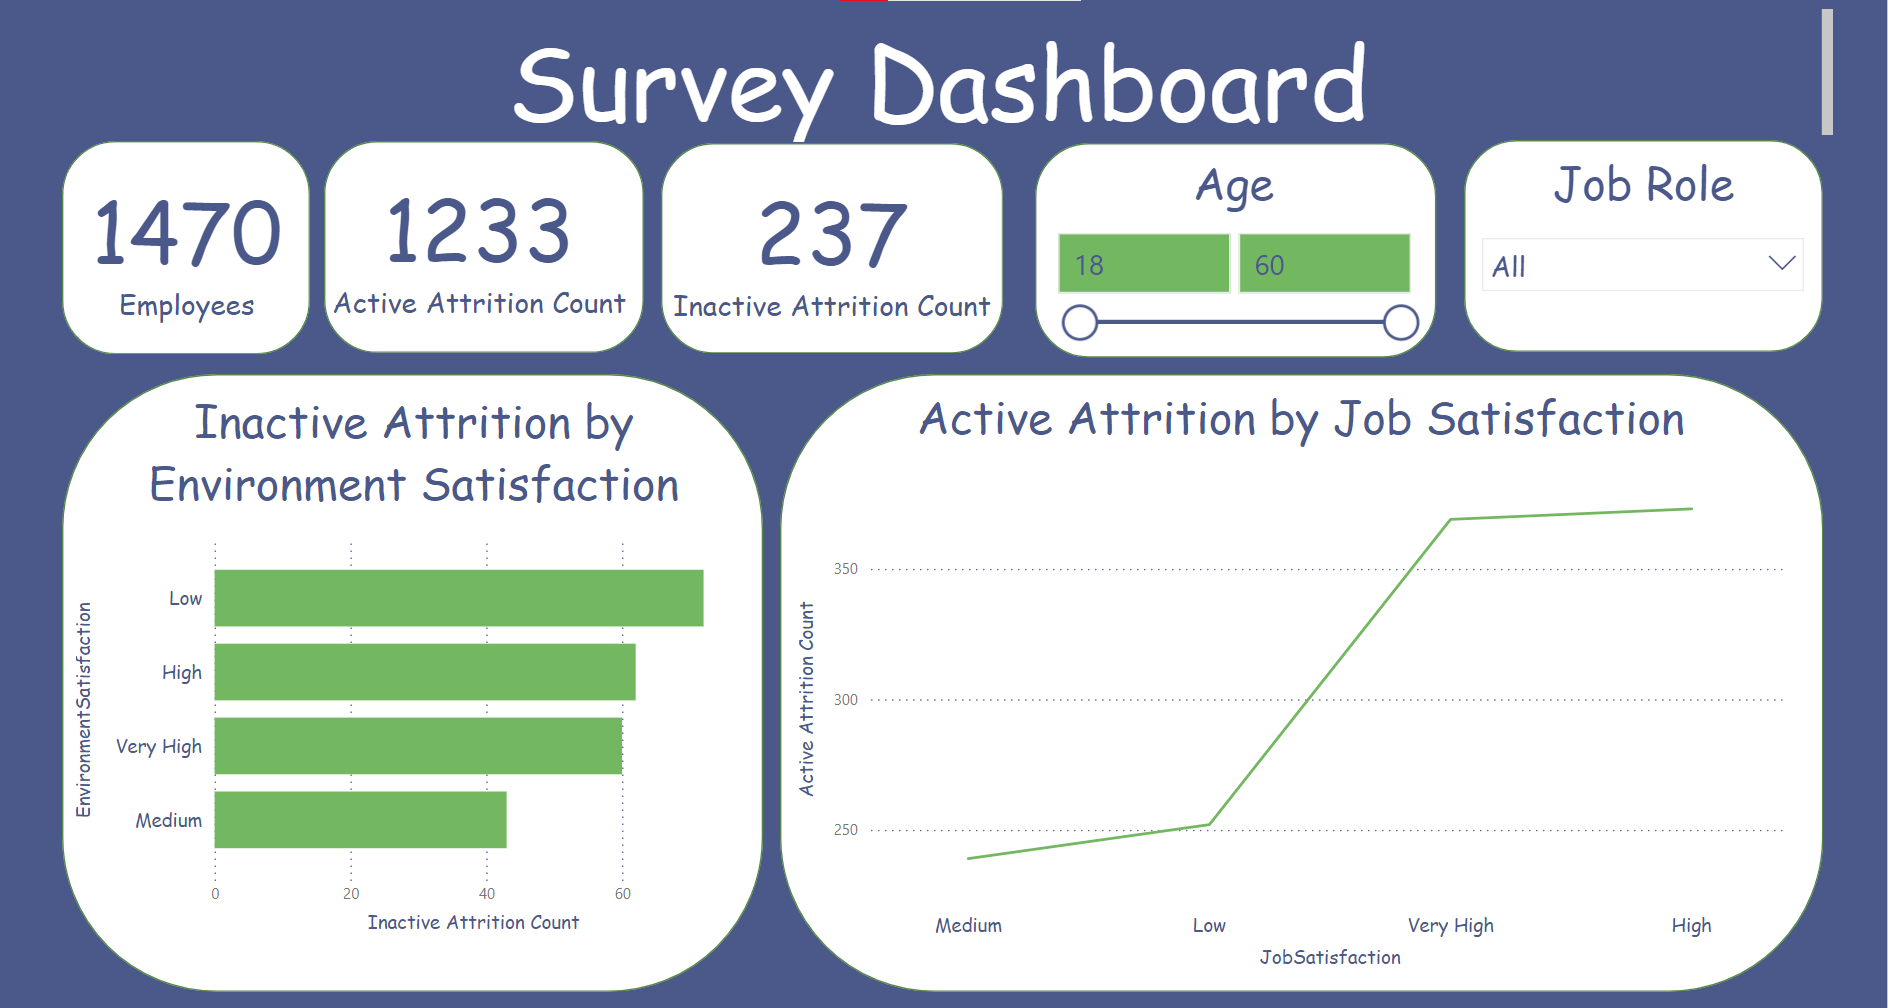

The page's visual inventory and layout, read from the dashboard file:
{"tool":"powerbi","page":{"name":"Survey Dashboard","canvas":[1280,720],"ordinal":5},"visuals":[{"type":"group","id":"g1","title":"Group 3","box":[9.9,100.9,177.2,152.4],"z":0},{"type":"shape","box":[9.9,100.9,177.2,152.4],"z":0,"group":"g1"},{"type":"group","id":"g2","title":"Group 1","box":[9.9,267.2,500.8,441.4],"z":0,"group":"g10"},{"type":"group","id":"g3","title":"Group 2","box":[522.6,267.2,745.2,441.4],"z":0,"group":"g15"},{"type":"group","id":"g4","title":"Group 1","box":[522.6,267.2,745.2,441.4],"z":0,"group":"g3"},{"type":"group","id":"g5","title":"Group 4","box":[187.1,100.9,241.5,151.4],"z":1000},{"type":"textbox","box":[715.1,103,262.3,57.4],"z":1000,"group":"g9"},{"type":"textbox","box":[565.6,270,658.1,57.4],"z":1000,"group":"g3"},{"type":"textbox","box":[56.3,272.9,409.7,100],"z":1000,"group":"g10"},{"type":"group","id":"g6","title":"Group 5","box":[435.5,101.9,248.4,150.4],"z":2000},{"type":"textbox","box":[0,1.8,1280,104.9],"z":3000},{"type":"group","id":"g7","title":"Group 6","box":[704.7,101.9,286.6,153.4],"z":3000,"group":"g8"},{"type":"card","fields":{"Values":["CountNonNull(Demographic_Data.EmployeeID)"]},"box":[14.8,106.8,168.2,140.5],"z":3500,"group":"g1"},{"type":"group","id":"g8","title":"Group 16","box":[704.7,101.9,287,153.4],"z":4000},{"type":"group","id":"g9","title":"Group 7","box":[715.1,103,262.3,57.4],"z":4000,"group":"g8"},{"type":"group","id":"g10","title":"Group 2","box":[9.9,267.2,500.8,441.4],"z":4000,"group":"g14"},{"type":"group","id":"g11","title":"Group 14","box":[1011.5,100,256.3,151.4],"z":5000},{"type":"group","id":"g12","title":"Group 7","box":[9.9,267.2,500.8,441.4],"z":5000,"group":"g13"},{"type":"group","id":"g13","title":"Group 8","box":[9.9,267.2,500.8,441.4],"z":6000},{"type":"group","id":"g14","title":"Group 6","box":[9.9,267.2,500.8,441.4],"z":6000,"group":"g12"},{"type":"shape","box":[9.9,267.2,500.8,441.4],"z":6500,"group":"g2"},{"type":"shape","box":[522.6,267.2,745.2,441.4],"z":6500,"group":"g4"},{"type":"group","id":"g15","title":"Group 9","box":[522.6,267.2,745.2,441.4],"z":7000},{"type":"slicer","fields":{"Values":["Job_Data.JobRole"]},"box":[1014.4,160.3,250.4,55.4],"z":8000},{"type":"shape","box":[437.6,101.9,244.5,150.4],"z":8500,"group":"g6"},{"type":"card","fields":{"Values":["Attrition_Data.Inactive Attrition Count"]},"box":[435.5,101.9,248.4,150.4],"z":9000,"group":"g6"},{"type":"barChart","fields":{"Category":["Survey_Data.EnvironmentSatisfaction"],"Y":["Attrition_Data.Inactive Attrition Count"]},"box":[14.8,373.1,484.9,299.9],"z":9000},{"type":"shape","box":[704.7,101.9,286.6,153.4],"z":10000,"group":"g7"},{"type":"lineChart","fields":{"Category":["Survey_Data.JobSatisfaction"],"Y":["Attrition_Data.Active Attrition Count"]},"box":[531.5,336.5,716.5,361.2],"z":10000},{"type":"shape","box":[196.9,100.9,228.5,151.4],"z":10002,"group":"g5"},{"type":"slicer","fields":{"Values":["Demographic_Data.Age"]},"box":[708.2,156.3,278.9,90.4],"z":10500,"group":"g7"},{"type":"card","fields":{"Values":["Attrition_Data.Active Attrition Count"]},"box":[187.1,100.9,241.5,149.4],"z":10502,"group":"g5"},{"type":"shape","box":[1011.5,100,256.3,151.4],"z":11000,"group":"g16"},{"type":"group","id":"g16","title":"Group 10","box":[1011.5,100,256.3,151.4],"z":13000,"group":"g11"},{"type":"textbox","box":[1019.4,102.9,240.5,71.3],"z":13000,"group":"g16"}]}

Visuals, with their boxes on the page's 1280x720 design canvas (x1, y1, x2, y2). These are canvas units, not pixel positions in the 1888x1008 screenshot, which may show the page scaled, cropped or inside an application window:
"Group 3" group: (left=10, top=101, right=187, bottom=253)
shape: (left=10, top=101, right=187, bottom=253)
"Group 1" group: (left=10, top=267, right=511, bottom=709)
"Group 2" group: (left=523, top=267, right=1268, bottom=709)
"Group 1" group: (left=523, top=267, right=1268, bottom=709)
"Group 4" group: (left=187, top=101, right=429, bottom=252)
textbox: (left=715, top=103, right=977, bottom=160)
textbox: (left=566, top=270, right=1224, bottom=327)
textbox: (left=56, top=273, right=466, bottom=373)
"Group 5" group: (left=436, top=102, right=684, bottom=252)
textbox: (left=0, top=2, right=1280, bottom=107)
"Group 6" group: (left=705, top=102, right=991, bottom=255)
card - CountNonNull(Demographic_Data.EmployeeID): (left=15, top=107, right=183, bottom=247)
"Group 16" group: (left=705, top=102, right=992, bottom=255)
"Group 7" group: (left=715, top=103, right=977, bottom=160)
"Group 2" group: (left=10, top=267, right=511, bottom=709)
"Group 14" group: (left=1012, top=100, right=1268, bottom=251)
"Group 7" group: (left=10, top=267, right=511, bottom=709)
"Group 8" group: (left=10, top=267, right=511, bottom=709)
"Group 6" group: (left=10, top=267, right=511, bottom=709)
shape: (left=10, top=267, right=511, bottom=709)
shape: (left=523, top=267, right=1268, bottom=709)
"Group 9" group: (left=523, top=267, right=1268, bottom=709)
slicer - Job_Data.JobRole: (left=1014, top=160, right=1265, bottom=216)
shape: (left=438, top=102, right=682, bottom=252)
card - Attrition_Data.Inactive Attrition Count: (left=436, top=102, right=684, bottom=252)
barChart - Survey_Data.EnvironmentSatisfaction x Attrition_Data.Inactive Attrition Count: (left=15, top=373, right=500, bottom=673)
shape: (left=705, top=102, right=991, bottom=255)
lineChart - Survey_Data.JobSatisfaction x Attrition_Data.Active Attrition Count: (left=532, top=336, right=1248, bottom=698)
shape: (left=197, top=101, right=425, bottom=252)
slicer - Demographic_Data.Age: (left=708, top=156, right=987, bottom=247)
card - Attrition_Data.Active Attrition Count: (left=187, top=101, right=429, bottom=250)
shape: (left=1012, top=100, right=1268, bottom=251)
"Group 10" group: (left=1012, top=100, right=1268, bottom=251)
textbox: (left=1019, top=103, right=1260, bottom=174)
